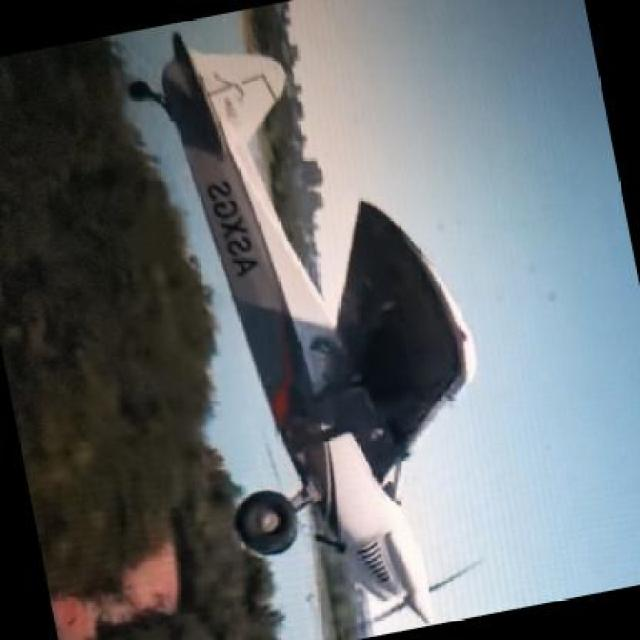iha: (128, 25, 496, 620)
